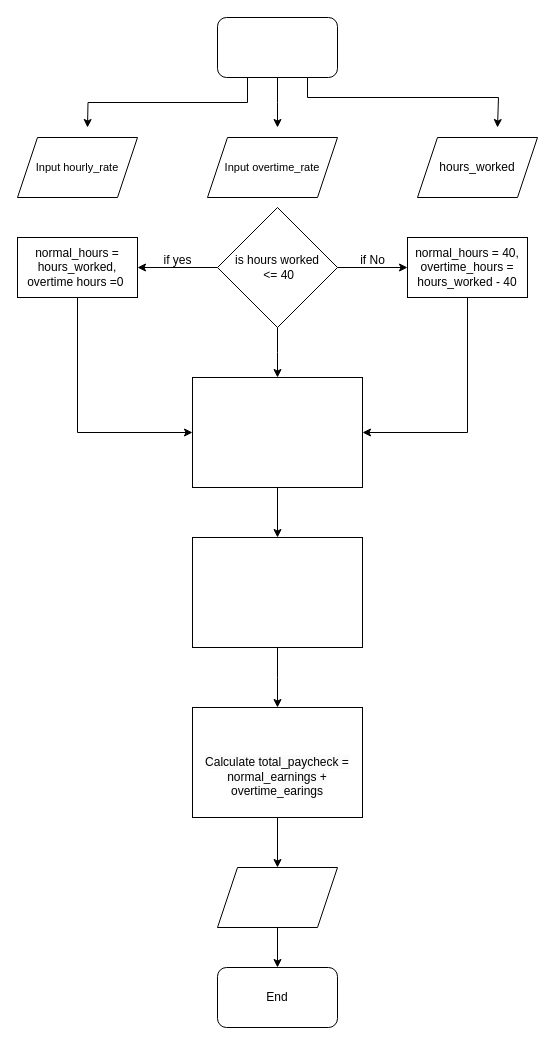
The diagram is 555 pixels wide and 1045 high, and some of its shapes have lost their labels. The shapes that lost their labels are listed below. From the top down, each one's box as (x1, y1, x2, y2) in pixels, then its label:
(216, 16, 338, 78): Start
(192, 376, 362, 488): Calculate normal_earnings= normal_hours * hourly_rate
(192, 536, 362, 648): Calculate overtime_earnings= overtime_hours * overtime_rate
(216, 866, 338, 928): Output total_paycheck
